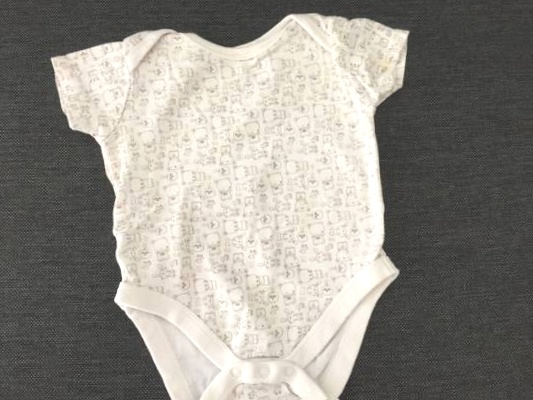Body: (49, 2, 432, 400)
